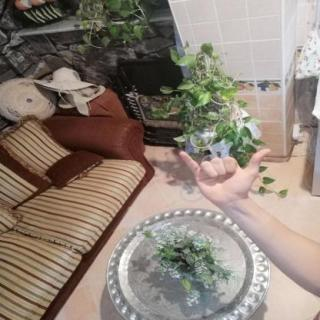YA: (169, 144, 284, 210)
